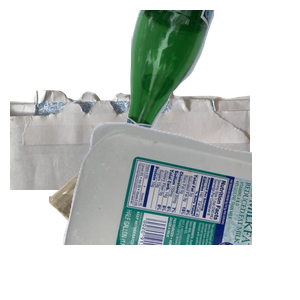glass: (109, 10, 300, 167)
paper: (10, 84, 250, 264)
plastic: (60, 120, 300, 300)
trash: (46, 144, 188, 300)
